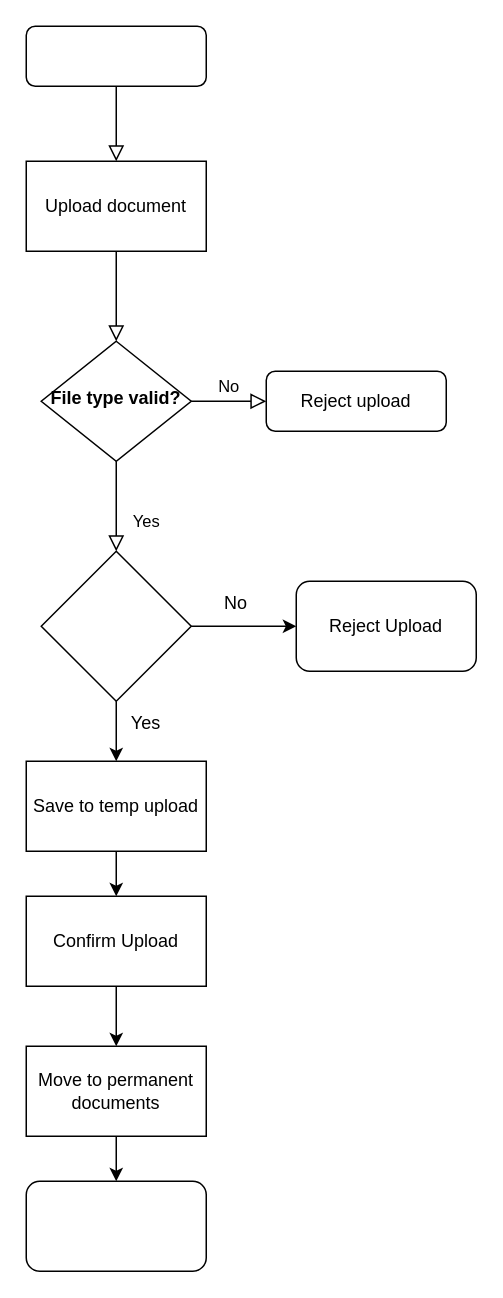
The diagram is 503 pixels wide and 1298 high, and some of its shapes have lost their labels. Here are the shapes that lost their labels. From the top down, the box of each, then its label:
(25, 25, 206, 86): Start
(40, 550, 191, 701): File size within limit?
(25, 1180, 206, 1271): End
